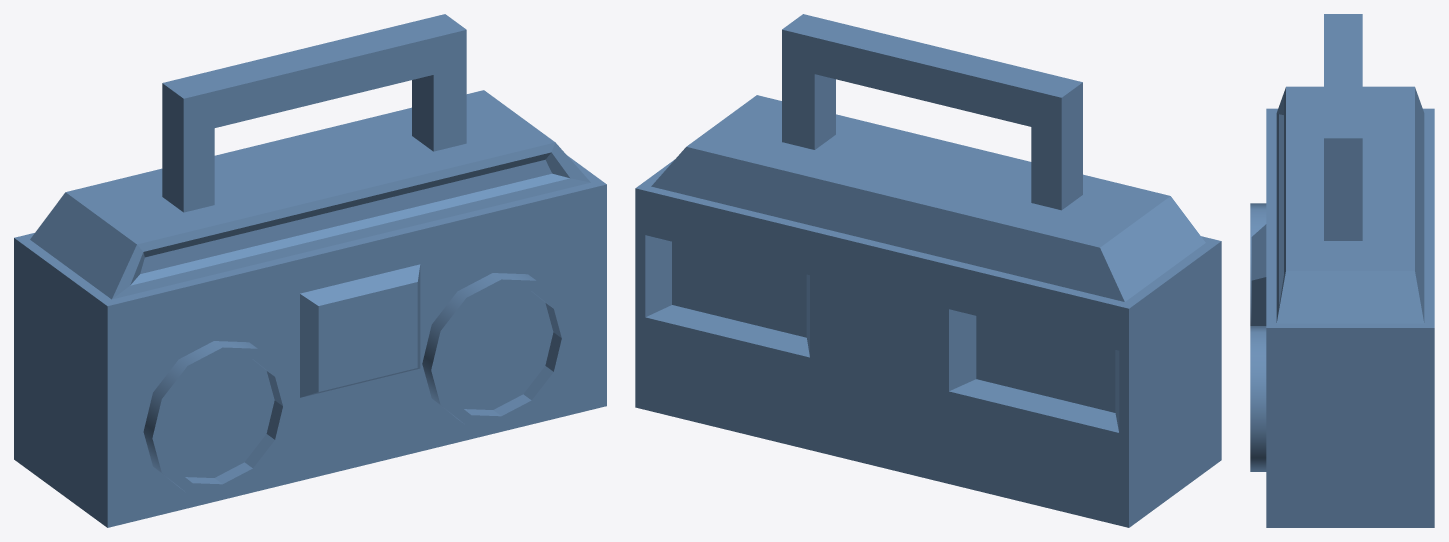
Rendered from Boombox.glb.
The picture shows the model from 3 angles, left to right: view 1: azimuth 30°, elevation 25°; view 2: azimuth 150°, elevation 25°; view 3: azimuth 270°, elevation 25°; orthographic projection. The views are drawn at different scales.
Parts seen in each view (by area): view 1: Boombox_01; view 2: Boombox_01; view 3: Boombox_01.
Part boxes in pixels (x1,y1,x2,y2): Boombox_01: (14, 14, 606, 527); Boombox_01: (635, 14, 1221, 527); Boombox_01: (1250, 14, 1434, 527).
Bounding box in the file's own units: 1.61 × 1.17 × 0.5726.
